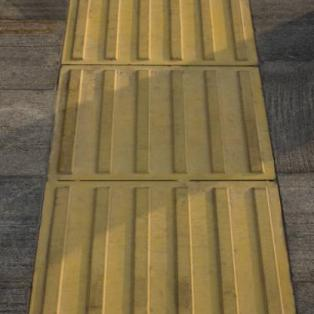Podoctatil: (24, 0, 304, 314)
